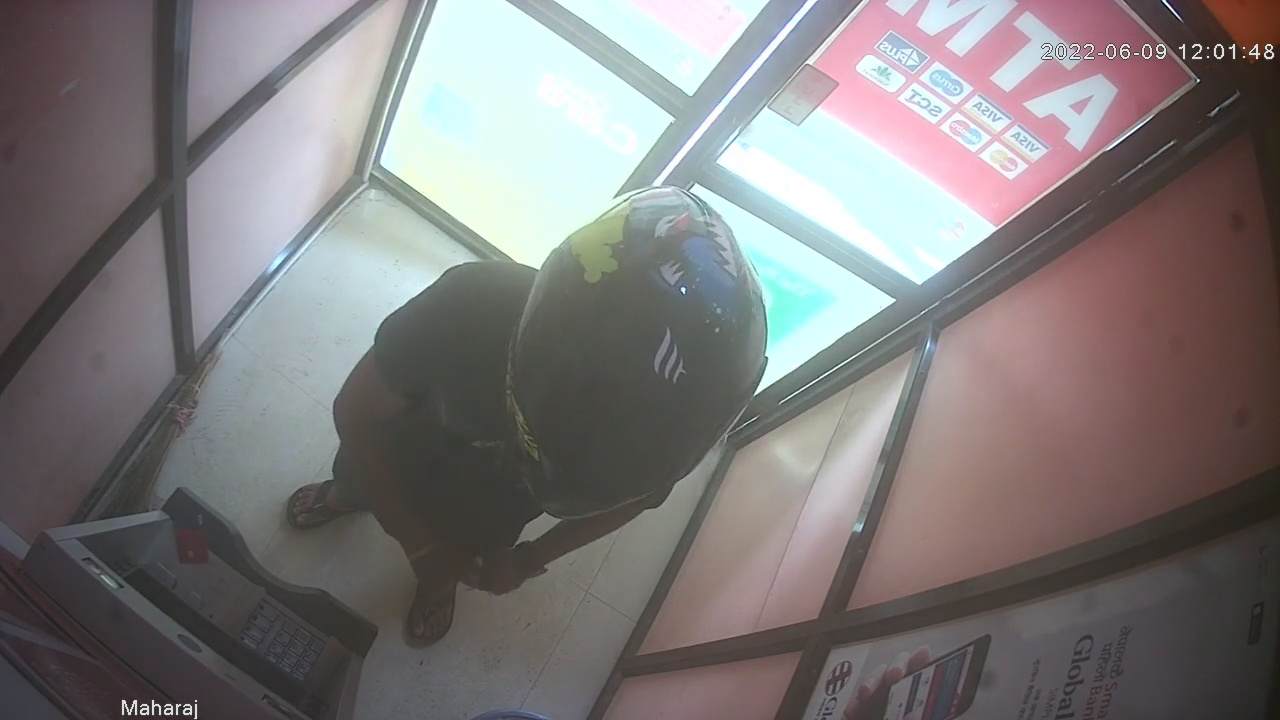helmet: (498, 184, 767, 520)
person: (285, 184, 769, 652)
